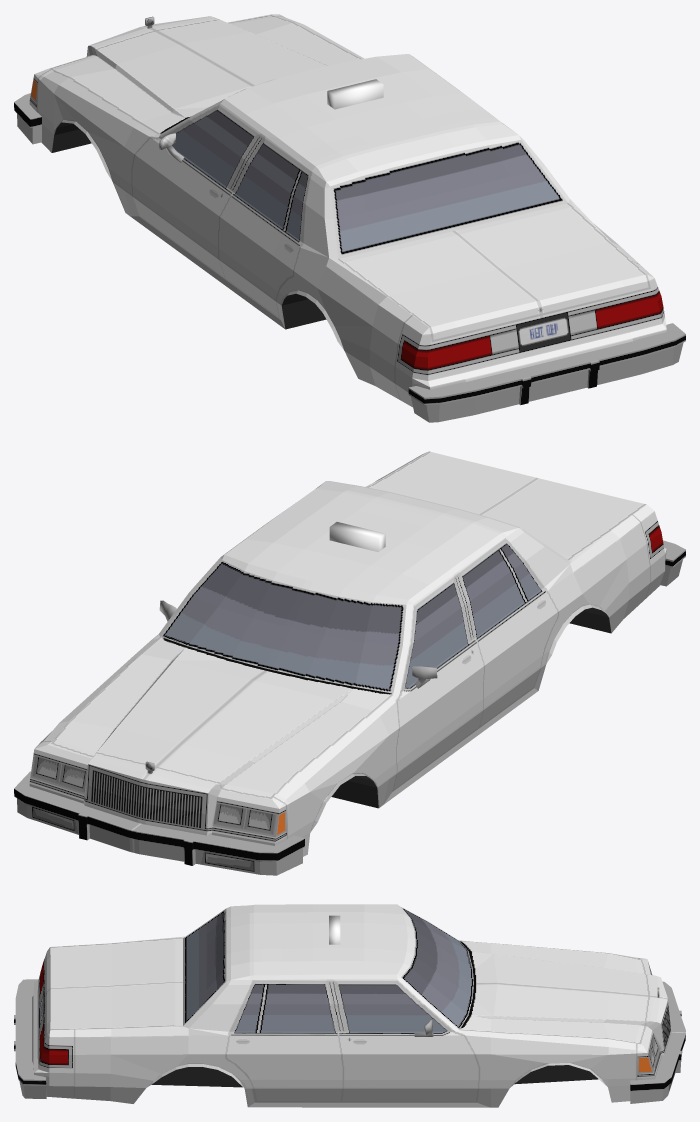
File: 85lesabretaxi1.fbx
The picture shows the model from 3 angles, top to bottom: view 1: azimuth 30°, elevation 25°; view 2: azimuth 150°, elevation 25°; view 3: azimuth 270°, elevation 25°; orthographic projection. The views are drawn at different scales.
Parts seen in each view (by area): view 1: 85lesaber; view 2: 85lesaber; view 3: 85lesaber.
Boxes of the visible parts, x1,y1,x2,y2 form: 85lesaber: [14, 14, 685, 422]; 85lesaber: [14, 451, 685, 875]; 85lesaber: [14, 904, 685, 1107].
Size of the model in its own units: 2.07 by 1.22 by 5.53.
